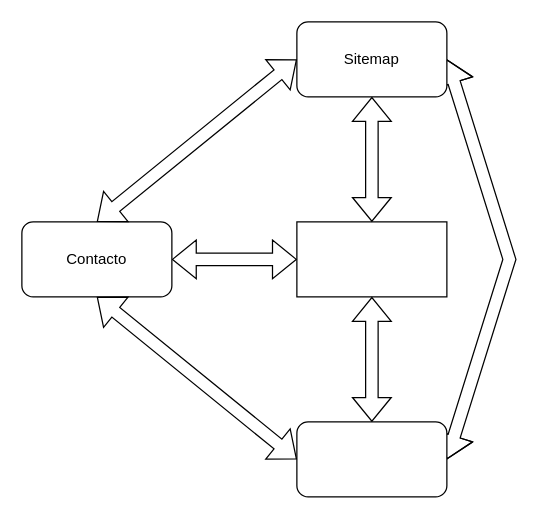
Image size: 539x519. Some labels were removed from this diagram. Here are the shapes that lost their labels. From the top down, the box of each, then its label:
(296, 221, 447, 297): INICIO
(296, 421, 447, 497): Productos
